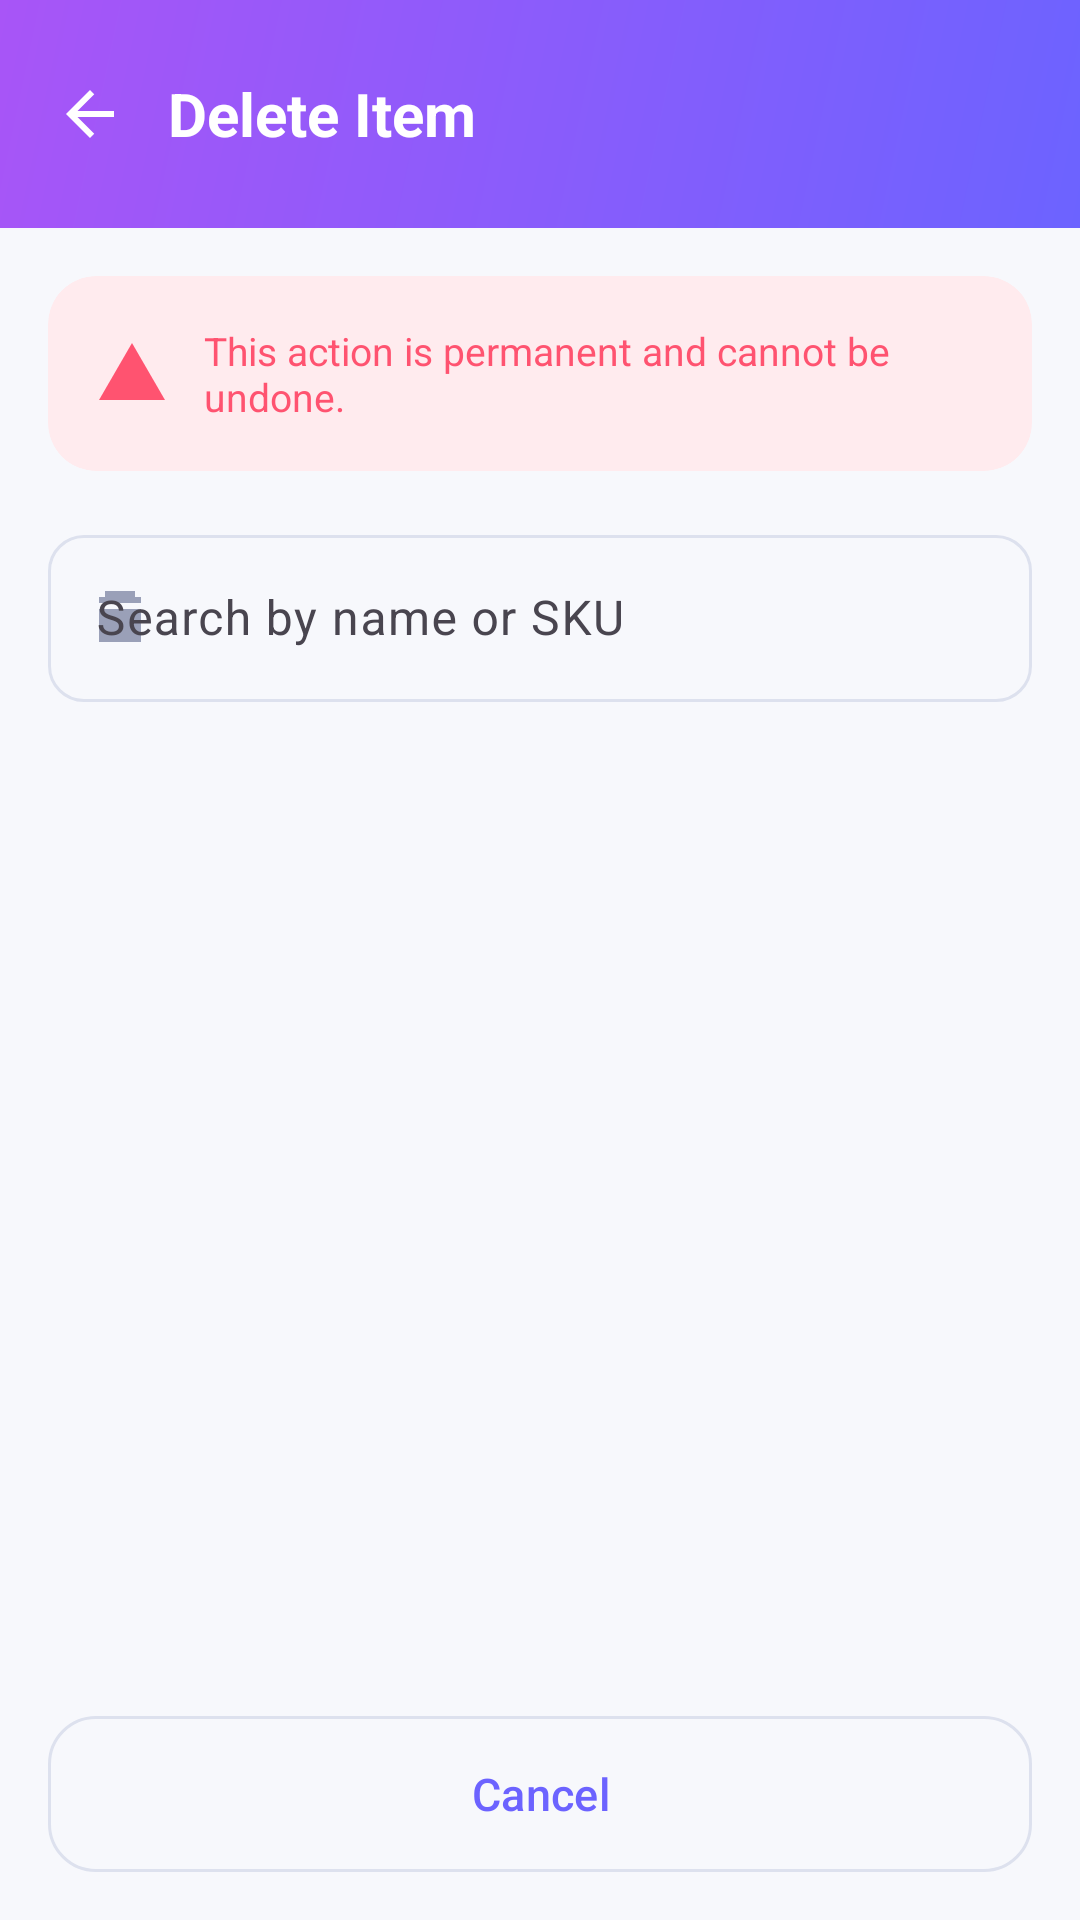

Named icons in this screenshot (1080px×1920px) and their bounding boxes, (left=x1, top=y1, right=x2, bottom=y2):
Go back: (left=66, top=90, right=114, bottom=138)
